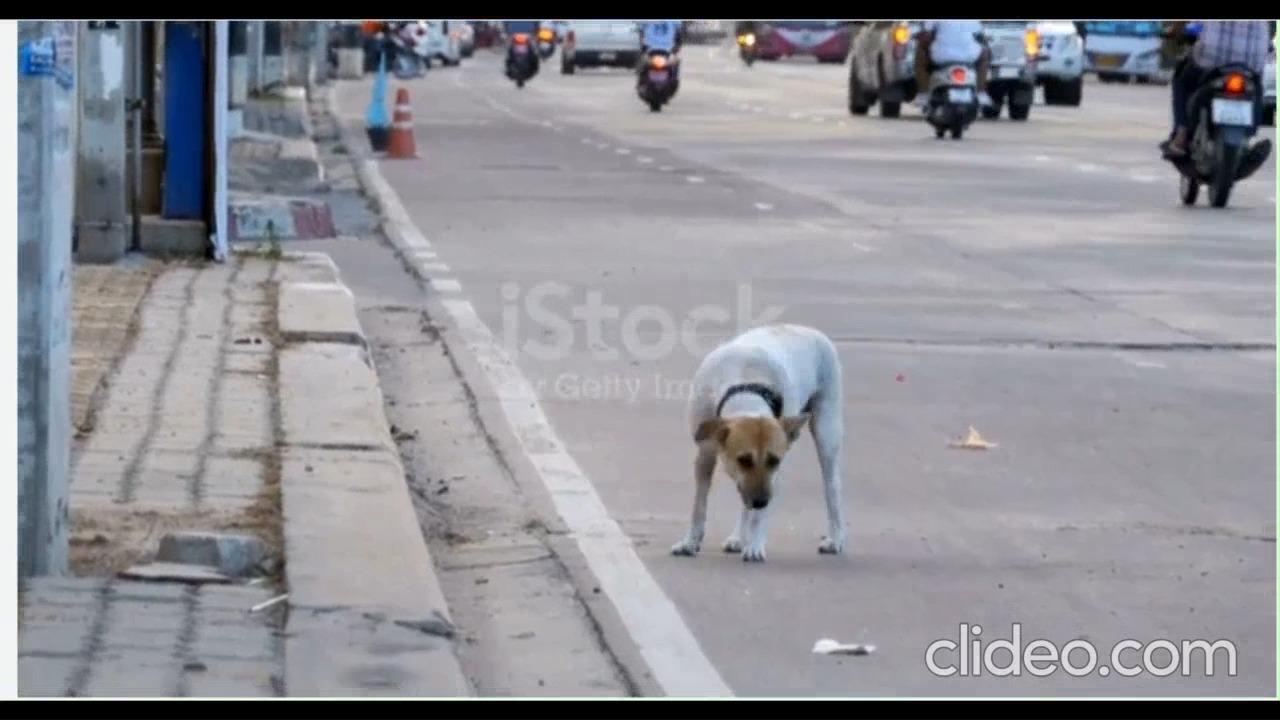dog: (660, 315, 856, 586)
